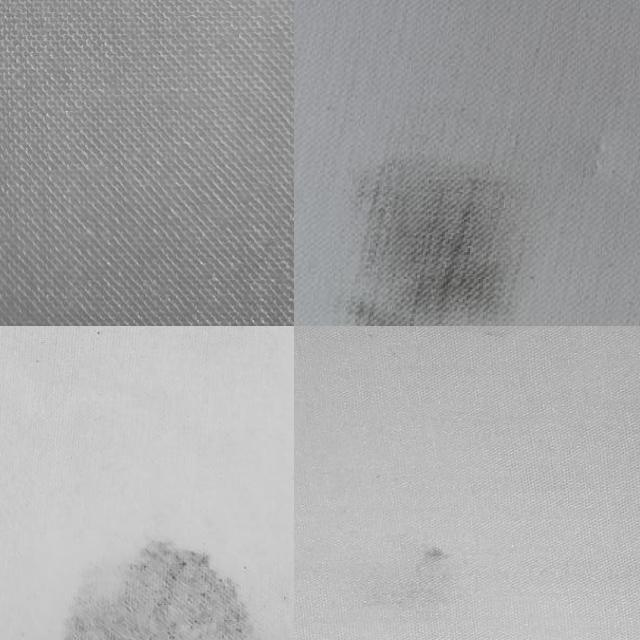Thread_other: (294, 117, 560, 326), (297, 451, 509, 640), (27, 521, 294, 640)
